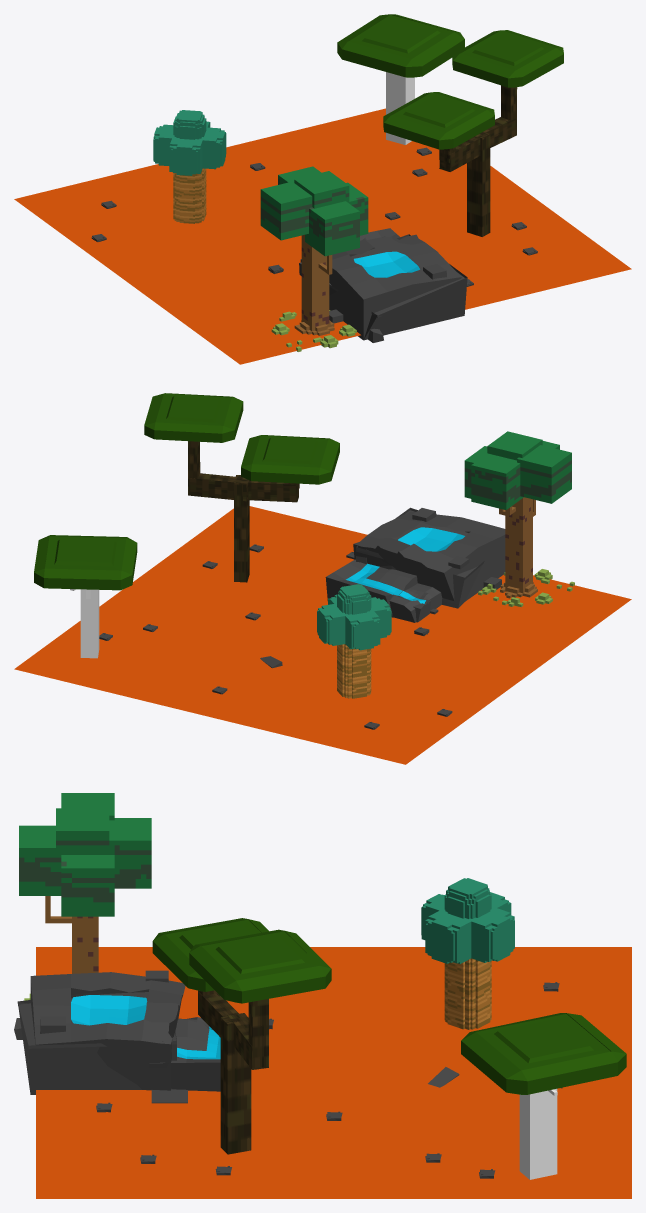
Rendered from bottom_right.glb.
3 renders of one model, top to bottom at view 1: azimuth 30°, elevation 25°; view 2: azimuth 150°, elevation 25°; view 3: azimuth 270°, elevation 25°, orthographic. The views are drawn at different scales.
Parts seen in each view (by area): view 1: BR, Cube.098, TREE 02.004, Cube.077, Cube.072, Object_3.002, Cube.128, Cube.071; view 2: BR, Cube.098, TREE 02.004, Cube.077, Object_3.002, Cube.072, Cube.120, Cube.123, Cube.071, Cube.128, Cube.126; view 3: BR, Cube.098, Cube.077, TREE 02.004, Object_3.002, Cube.072, Cube.071, Cube.120, Cube.128, Cube.126.
Boxes of the visible parts, box(x1,y1,x2,y2) form: BR: box(14, 108, 631, 364); Cube.098: box(383, 30, 563, 236); TREE 02.004: box(260, 166, 368, 351); Cube.077: box(329, 234, 467, 342); Cube.072: box(337, 14, 464, 77); Object_3.002: box(153, 110, 226, 223); Cube.128: box(354, 251, 419, 277); Cube.071: box(386, 72, 414, 144); BR: box(14, 506, 631, 764); Cube.098: box(144, 393, 339, 582); TREE 02.004: box(464, 431, 574, 606); Cube.077: box(353, 507, 505, 608); Object_3.002: box(317, 584, 391, 698); Cube.072: box(34, 535, 137, 590); Cube.120: box(325, 559, 417, 617); Cube.123: box(385, 583, 442, 622); Cube.071: box(80, 589, 99, 658); Cube.128: box(398, 527, 464, 551); Cube.126: box(346, 563, 402, 595); BR: box(36, 947, 631, 1198); Cube.098: box(152, 918, 331, 1154); Cube.077: box(14, 970, 187, 1103); TREE 02.004: box(19, 793, 151, 1000); Object_3.002: box(421, 878, 514, 1029); Cube.072: box(461, 1013, 626, 1094); Cube.071: box(519, 1088, 557, 1179); Cube.120: box(149, 1019, 220, 1091); Cube.128: box(71, 995, 147, 1025); Cube.126: box(177, 1029, 220, 1059).
Bounding box in the file's own units: 229 × 93.78 × 229.
Materials: 17 (3 with a texture image).
